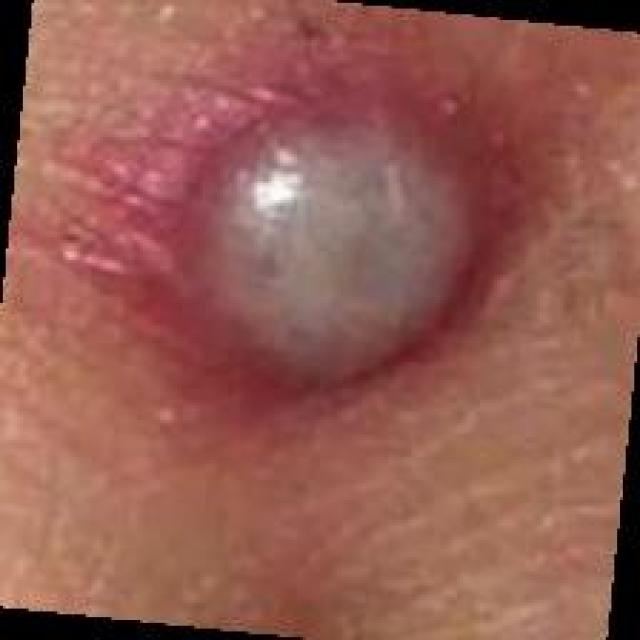monkeypox: (79, 0, 588, 587)
